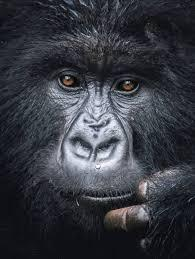goriile_montagne: (4, 5, 194, 259)
